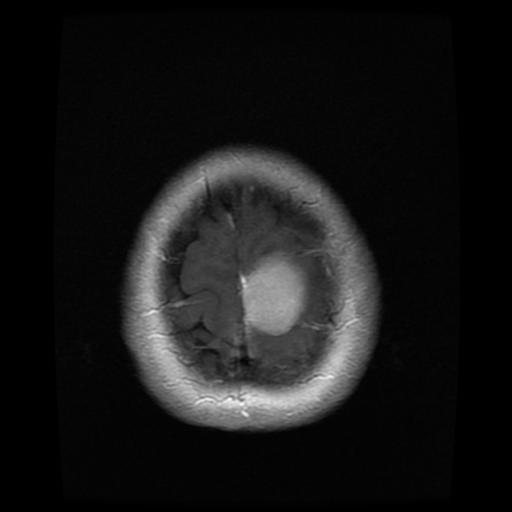Menigiomia_tumour: (240, 253, 307, 332)
